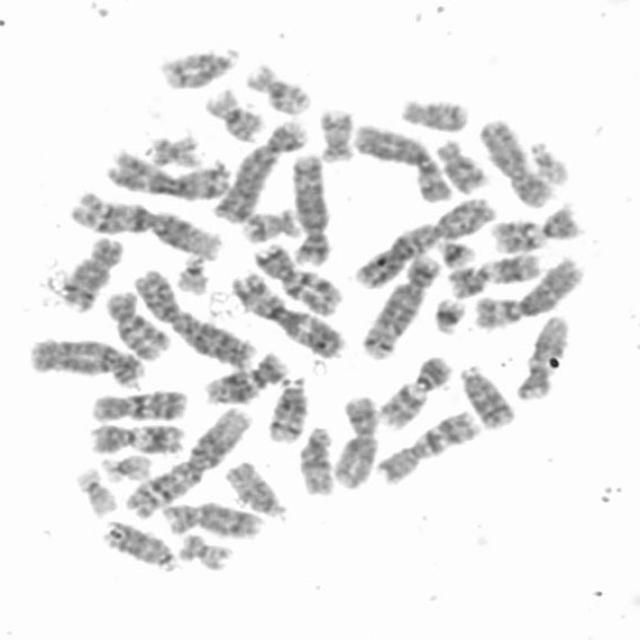A1: (121, 400, 257, 520), (66, 187, 227, 260)
A2: (351, 191, 498, 289), (128, 263, 259, 369)
A3: (227, 266, 348, 359), (105, 143, 232, 202)
B4: (208, 112, 311, 225), (23, 329, 148, 388)
B5: (356, 247, 442, 360), (285, 147, 334, 267)
C10: (99, 283, 173, 362), (85, 383, 191, 423)
C11: (442, 247, 544, 299), (83, 416, 189, 456)
C12: (511, 308, 574, 402), (198, 345, 290, 406)
C6: (347, 115, 456, 204), (468, 250, 587, 330)
C7: (372, 404, 482, 486), (249, 236, 345, 316)
C8: (56, 230, 127, 312), (155, 494, 265, 540)
C9: (372, 348, 454, 430), (487, 198, 583, 255)
D13: (98, 514, 180, 574), (454, 357, 520, 430)
D14: (155, 40, 244, 90), (261, 369, 312, 444)
D15: (219, 454, 291, 520), (292, 420, 338, 497)
E16: (240, 56, 316, 116), (200, 83, 267, 142)
E17: (313, 102, 358, 164), (236, 202, 304, 243)
E18: (431, 133, 493, 194), (395, 90, 473, 134)
F19: (70, 460, 121, 518), (96, 447, 156, 484)
F20: (173, 526, 233, 572), (144, 128, 204, 168)
G21: (428, 290, 469, 336), (430, 231, 479, 269)
G22: (524, 133, 574, 185), (170, 249, 212, 295)
X: (475, 112, 557, 209), (326, 388, 382, 490)
